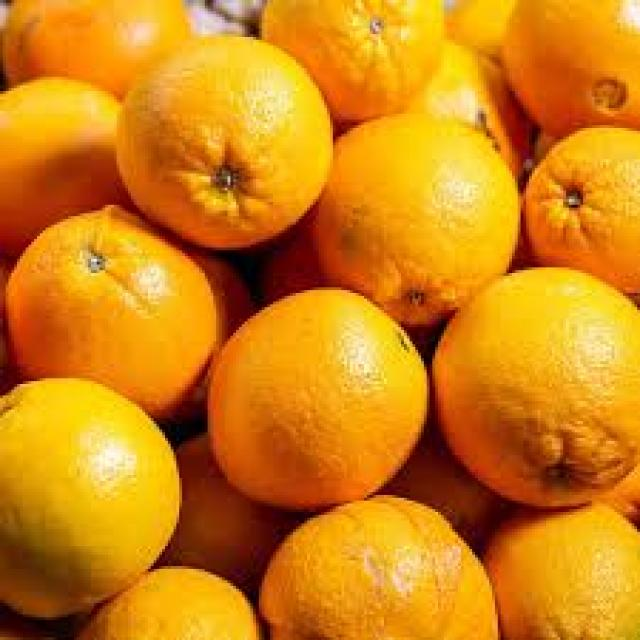orange: (434, 268, 636, 510), (210, 288, 427, 510), (4, 207, 224, 424), (115, 39, 332, 252), (309, 115, 519, 329), (0, 377, 178, 617), (256, 499, 494, 640), (264, 0, 448, 124), (2, 75, 129, 254), (523, 126, 638, 297), (497, 0, 637, 136), (3, 2, 192, 98)
